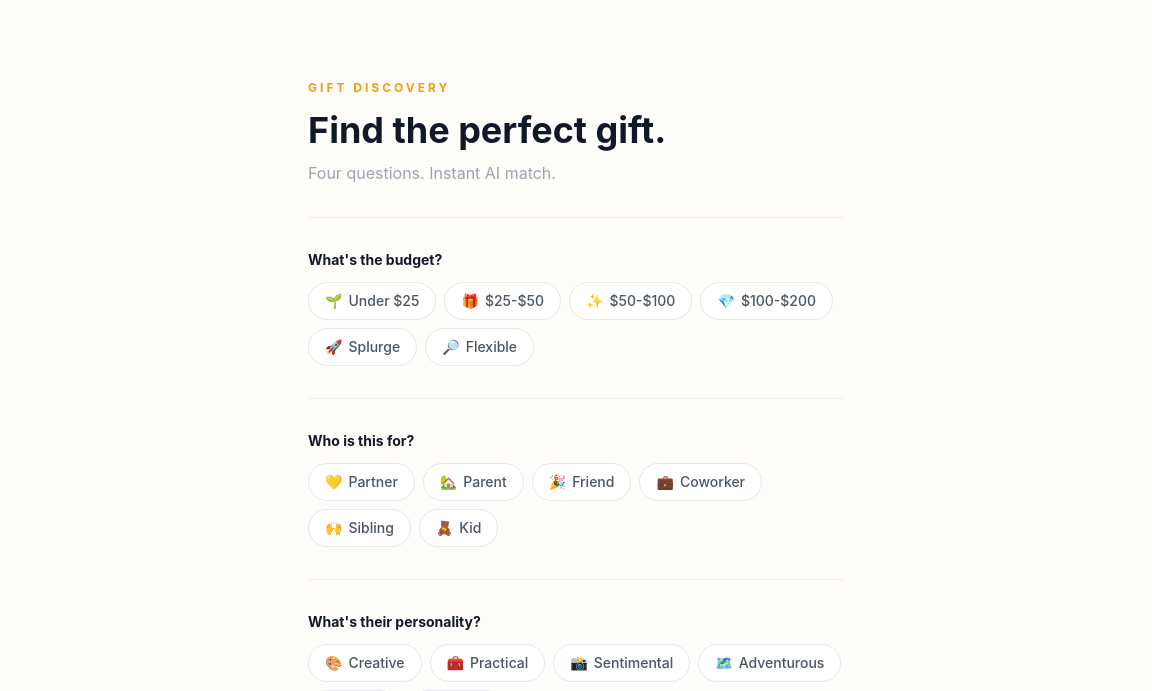
Test: QuizPage › renders a loading match note while findGifts is in flight
Click the button "🎁 $25-$50" at (503, 301), box 444,282 -> 561,320
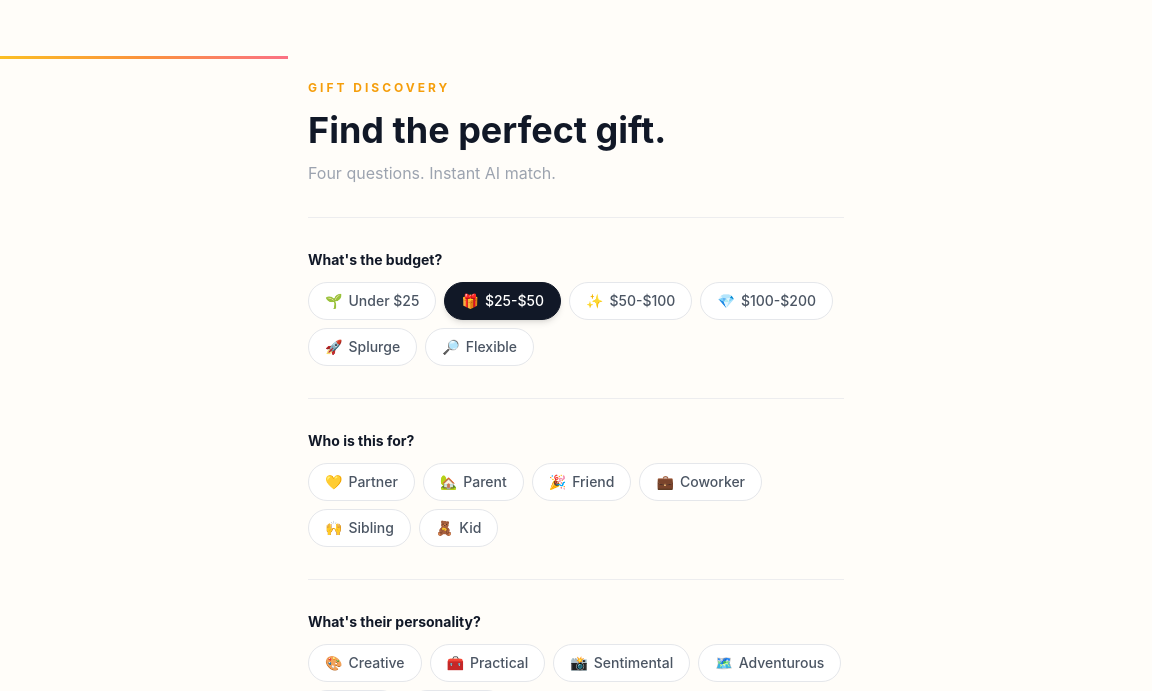
Click the button "🎉 Friend" at (582, 482), box 532,463 -> 631,501
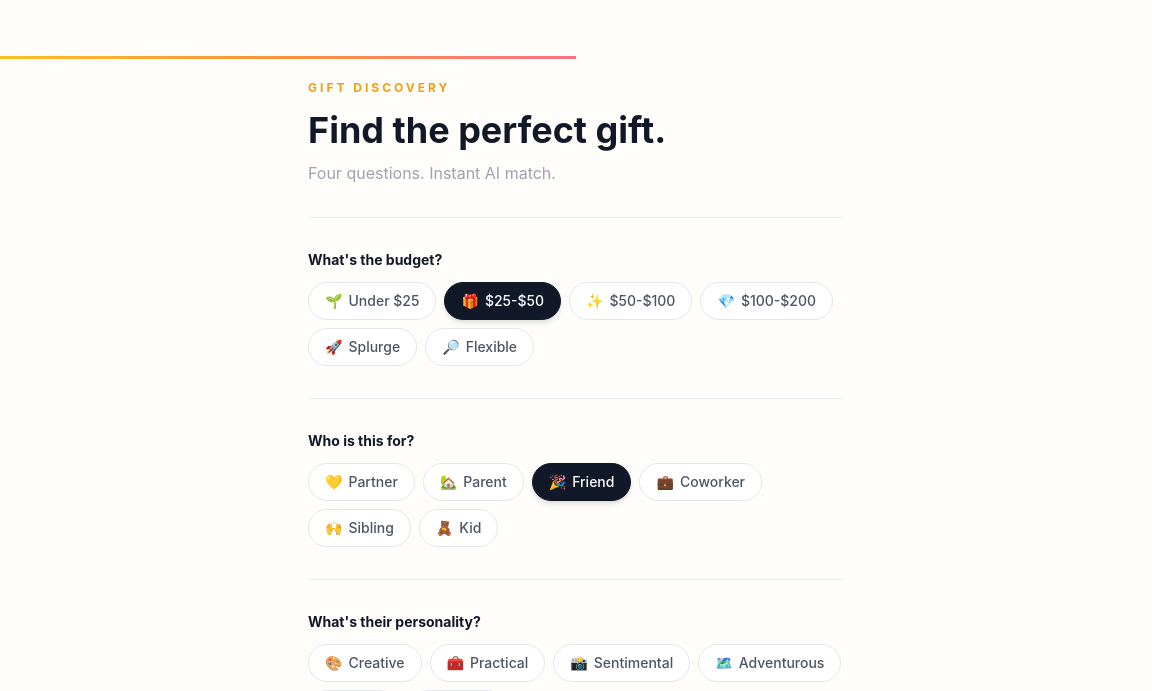
Click the button "🎨 Creative" at (365, 663), box 308,644 -> 422,682
(page scrolled)
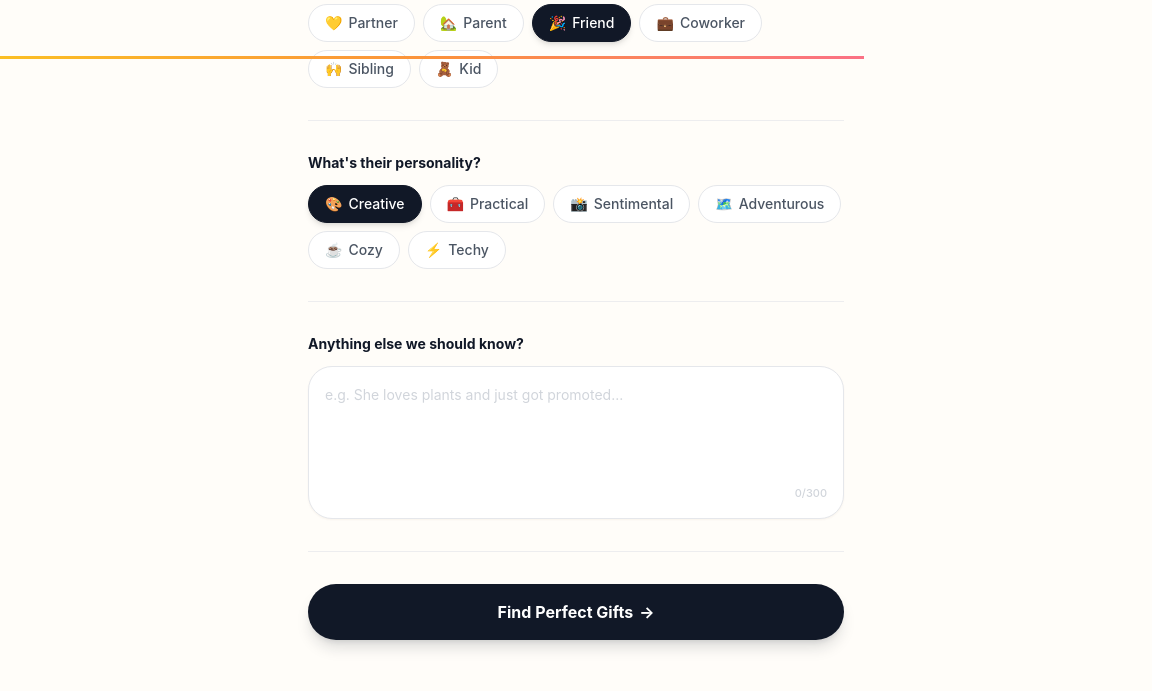
Click the button "Find Perfect Gifts →" at (576, 612), box 308,584 -> 844,640
(page scrolled)
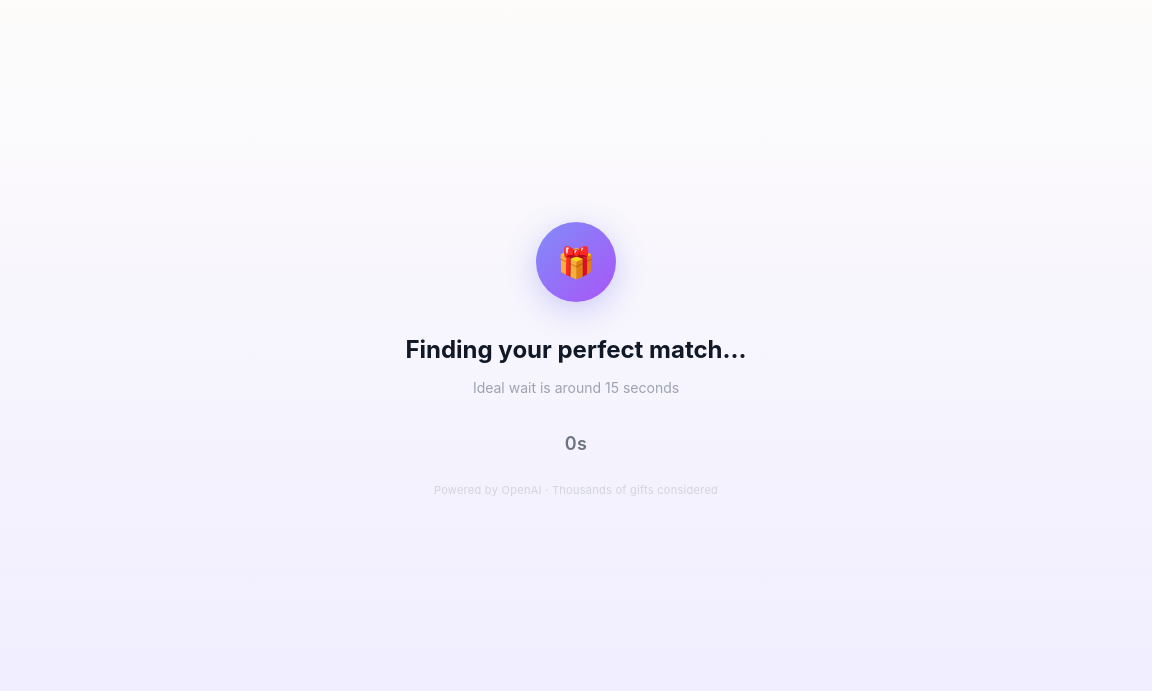
Expected: the heading "Finding your perfect match..." is shown, 405,334 -> 747,366
Expected: the text "Ideal wait is around 15 seconds" is shown, 473,378 -> 679,398
Expected: the text "0s" is shown, 565,430 -> 587,458
